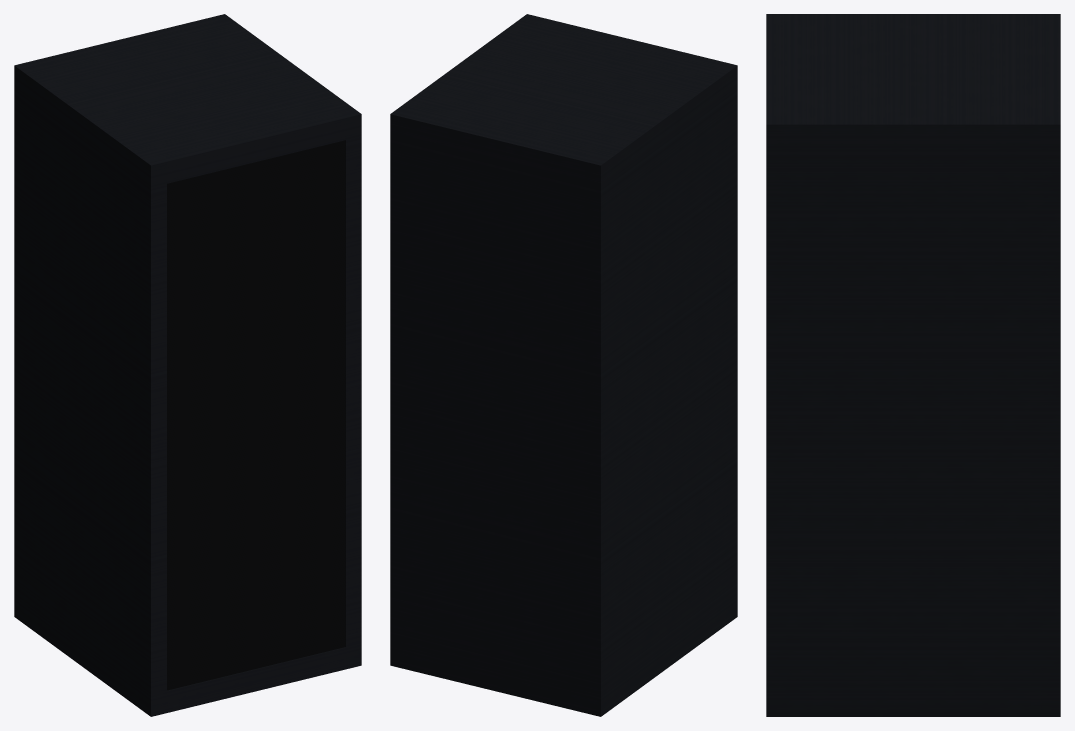
File: server_rack.glb
3 renders of one model, left to right at view 1: azimuth 30°, elevation 25°; view 2: azimuth 150°, elevation 25°; view 3: azimuth 270°, elevation 25°, orthographic. The views are drawn at different scales.
Parts seen in each view (by area): view 1: RackFrame, PerforatedDoor; view 2: RackFrame; view 3: RackFrame.
Part boxes in pixels (bbox=[...]): RackFrame: bbox=[14, 14, 361, 716]; PerforatedDoor: bbox=[167, 140, 345, 690]; RackFrame: bbox=[390, 14, 737, 716]; RackFrame: bbox=[766, 14, 1060, 716].
Bounding box in the file's own units: 0.8 × 2 × 0.9.
8 materials, 3 textured.
